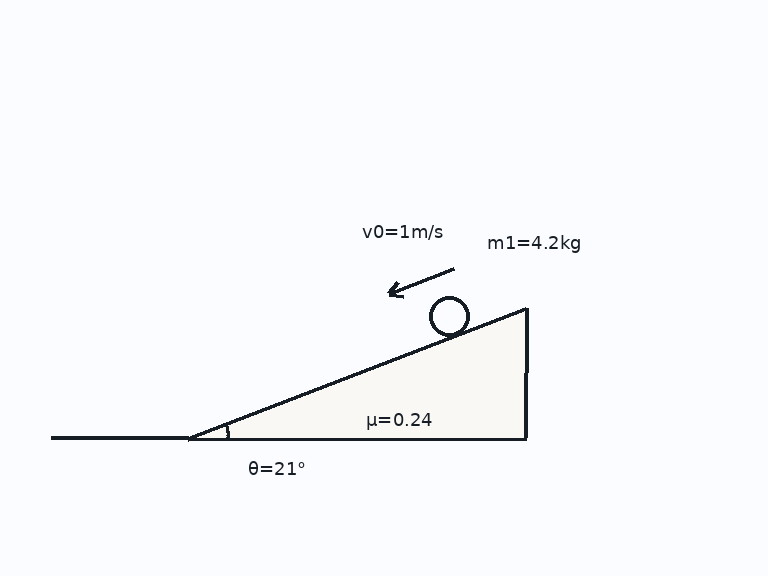ball: (427, 294, 471, 338)
ramp: (186, 306, 528, 440)
